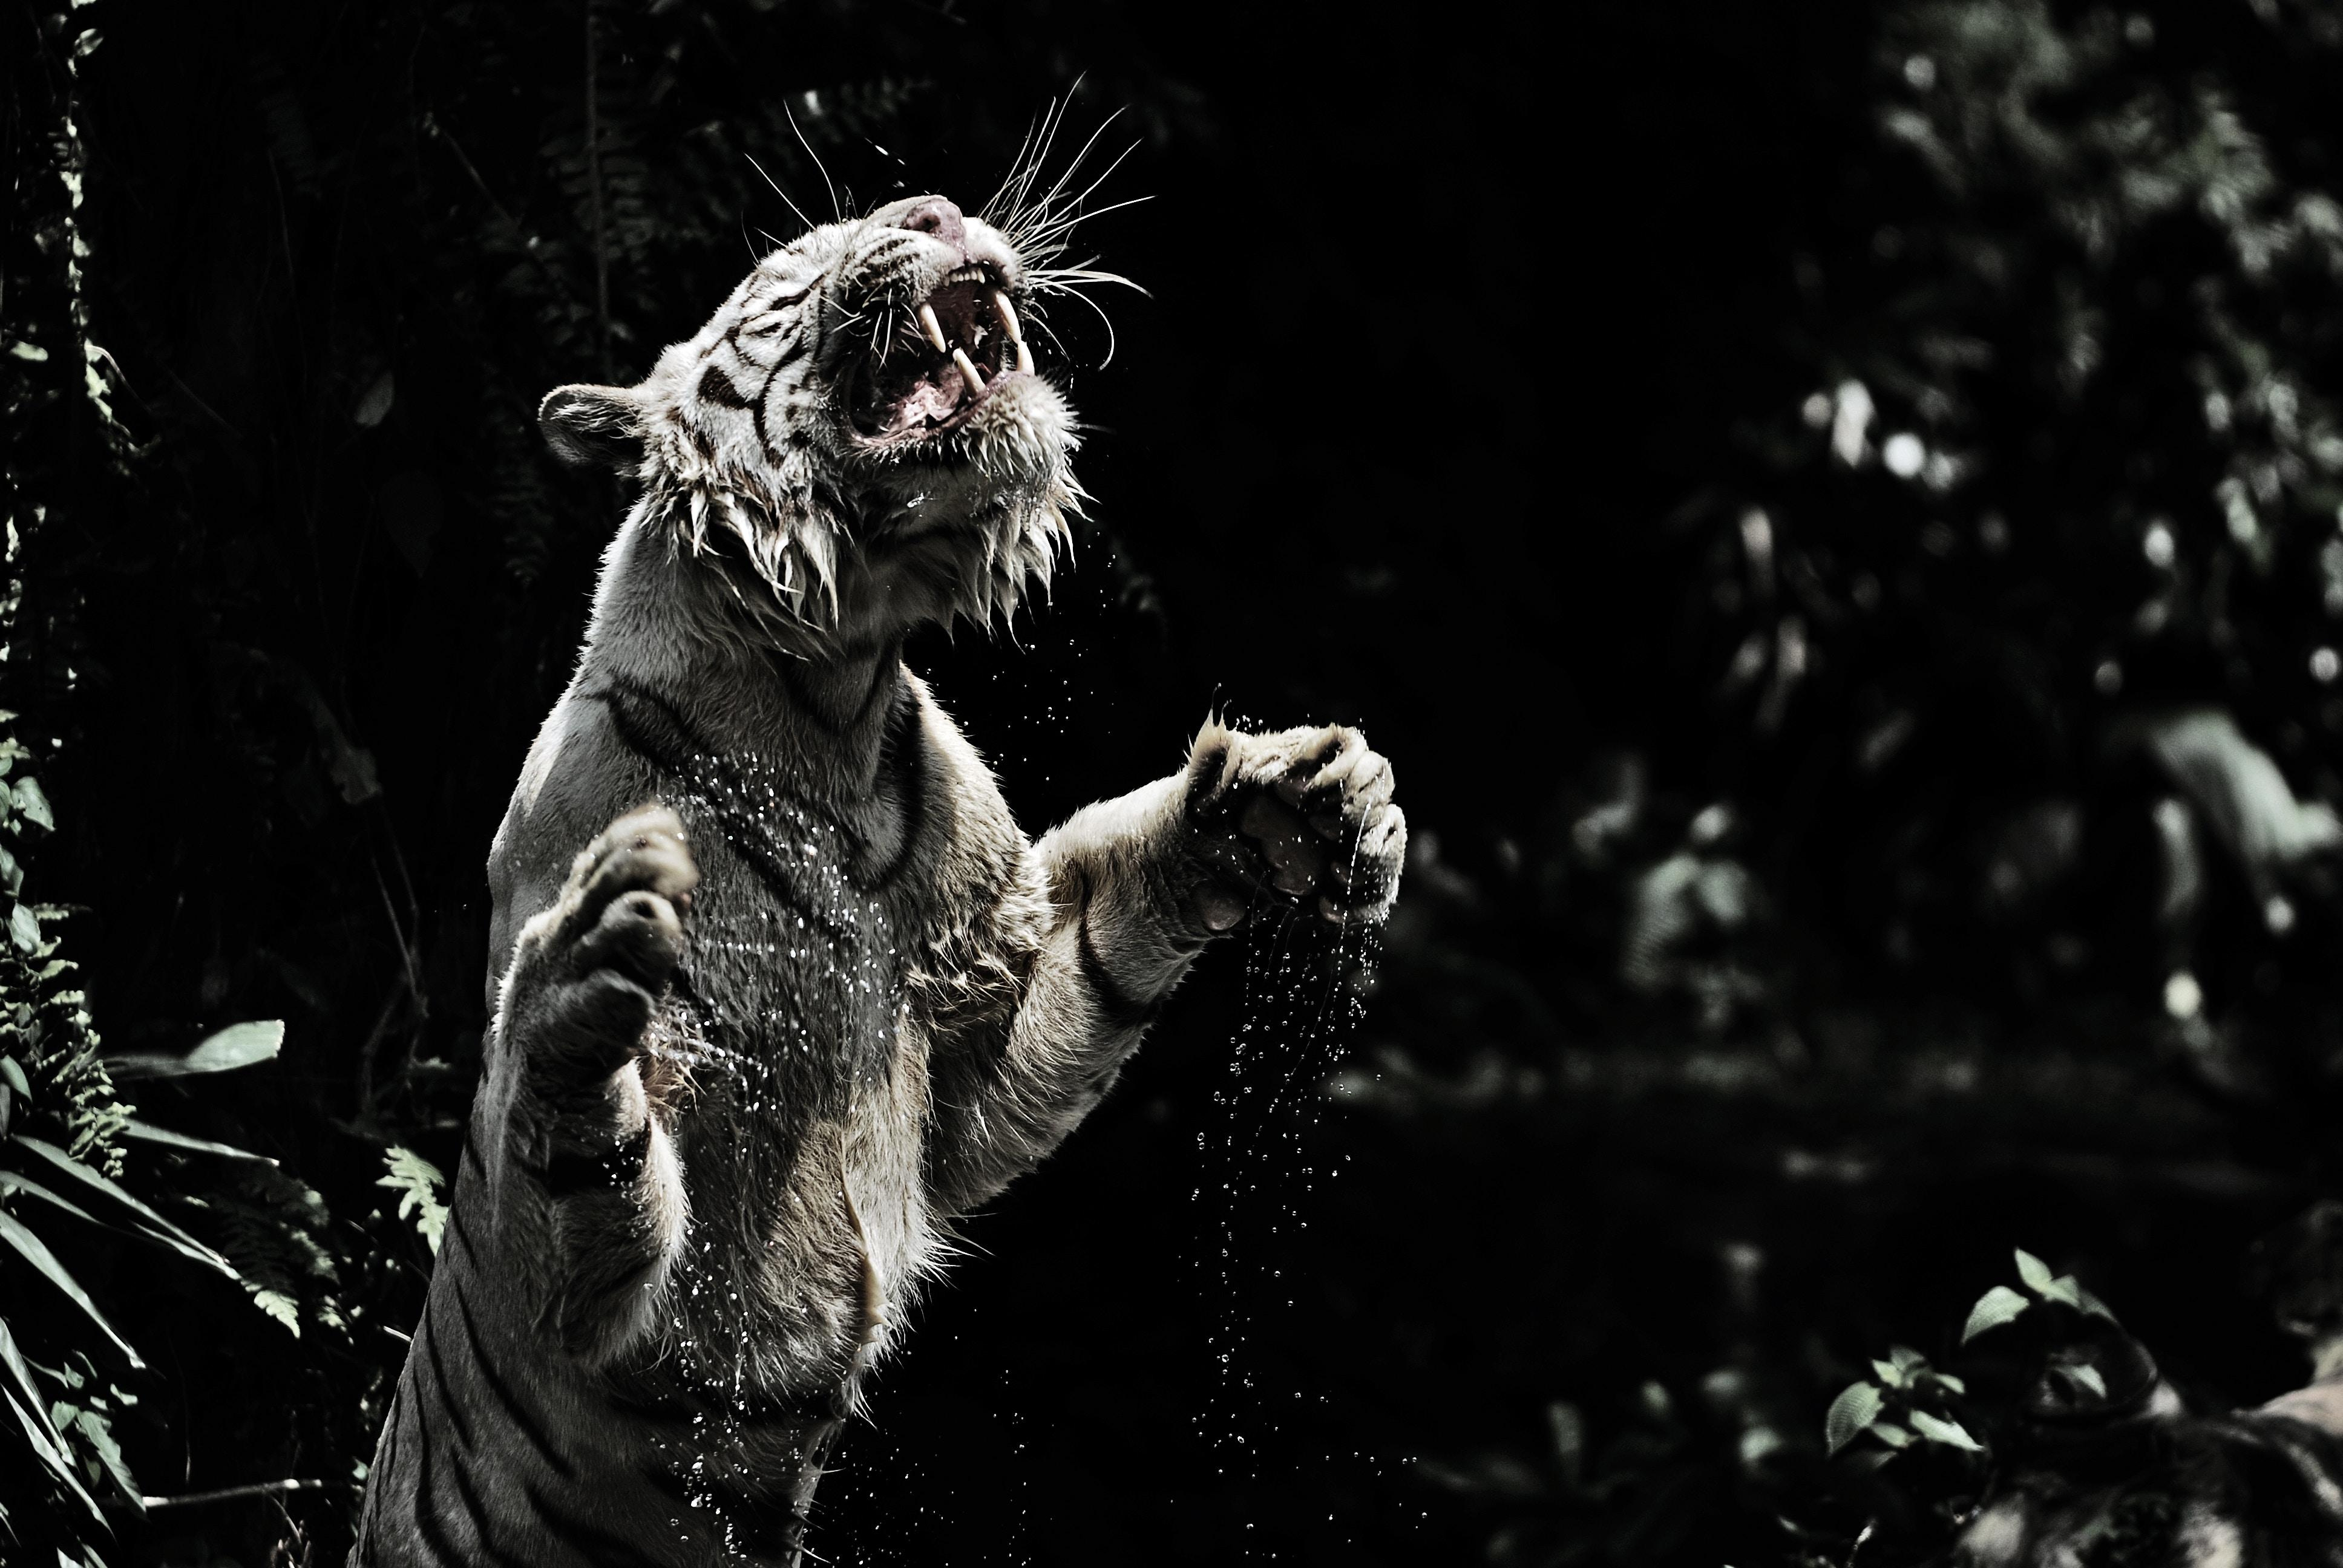Tigrew: (423, 157, 1447, 1304)
